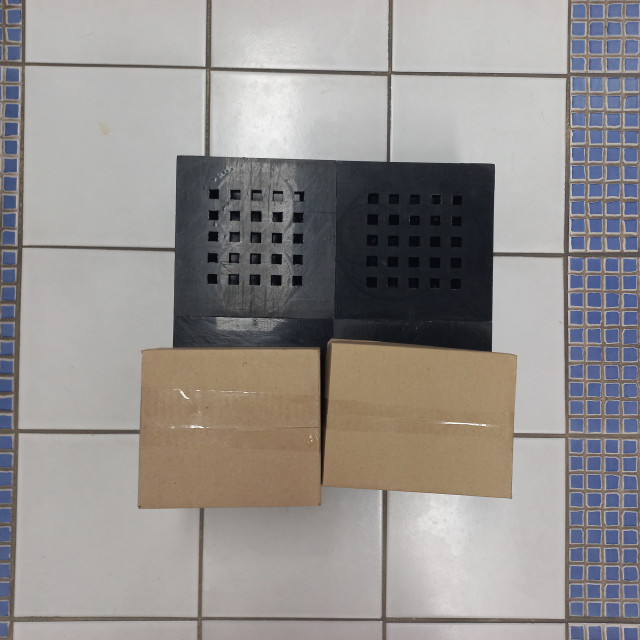box: (320, 340, 517, 501), (136, 345, 323, 512)
